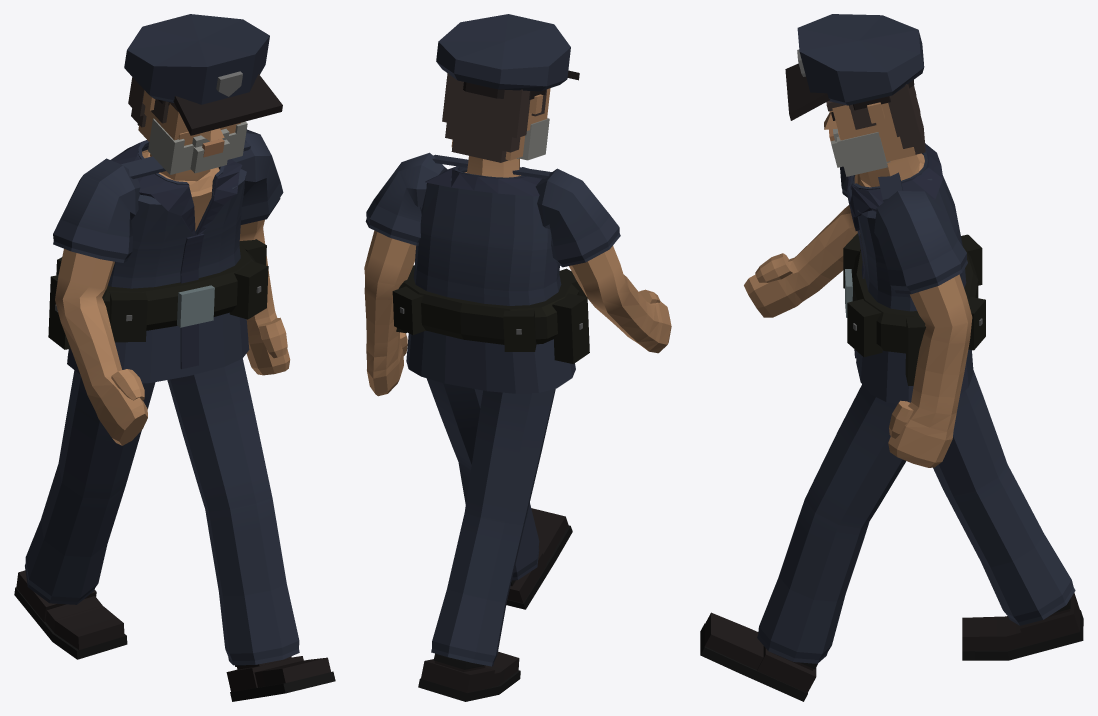
File: police-officer-1cc379__walk0.glb
3 views of the same model, side by side, from view 1: azimuth 30°, elevation 25°; view 2: azimuth 150°, elevation 25°; view 3: azimuth 270°, elevation 25° (orthographic). The views are drawn at different scales.
Parts seen in each view (by area): view 1: police-officer-1cc379__walk0; view 2: police-officer-1cc379__walk0; view 3: police-officer-1cc379__walk0.
Part boxes in pixels (<box>): police-officer-1cc379__walk0: <box>14,14,335,701</box>; police-officer-1cc379__walk0: <box>364,14,671,701</box>; police-officer-1cc379__walk0: <box>700,14,1083,701</box>.
Size of the model in its own units: 0.6904 by 1.71 by 0.9332.
